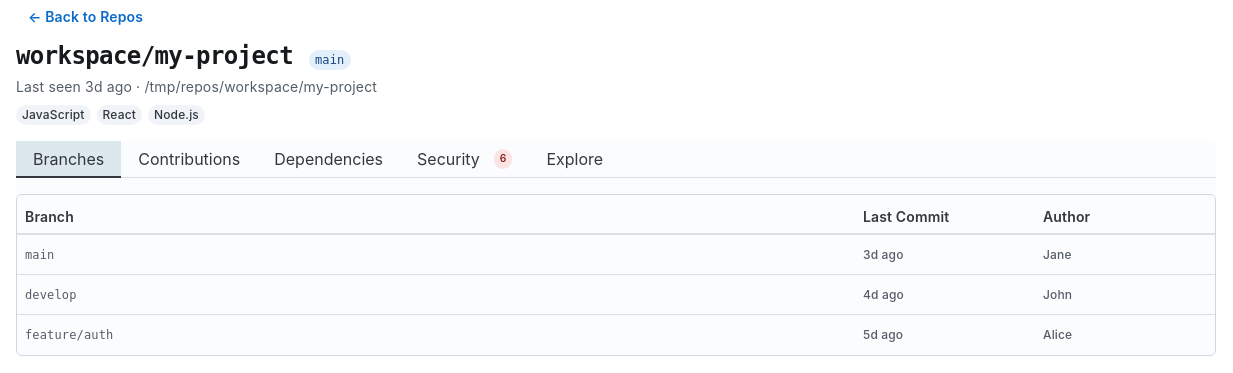
Test case: AdminRepoDetailPage › switches to Security tab and shows summary chips
Check: the heading "workspace/my-project" is shown, box top-left (16, 40), bottom-right (293, 72)
Click the tab "Security 6" at (465, 159), box top-left (400, 141), bottom-right (529, 177)
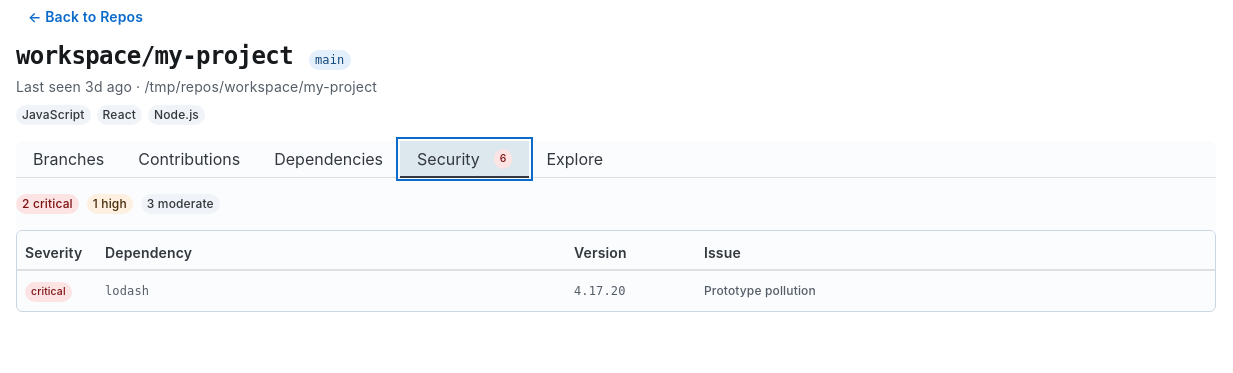
Check: the text "2 critical" is shown, box top-left (22, 195), bottom-right (73, 213)
Check: the text "1 high" is shown, box top-left (93, 195), bottom-right (127, 213)
Check: the text "3 moderate" is shown, box top-left (147, 195), bottom-right (214, 213)
